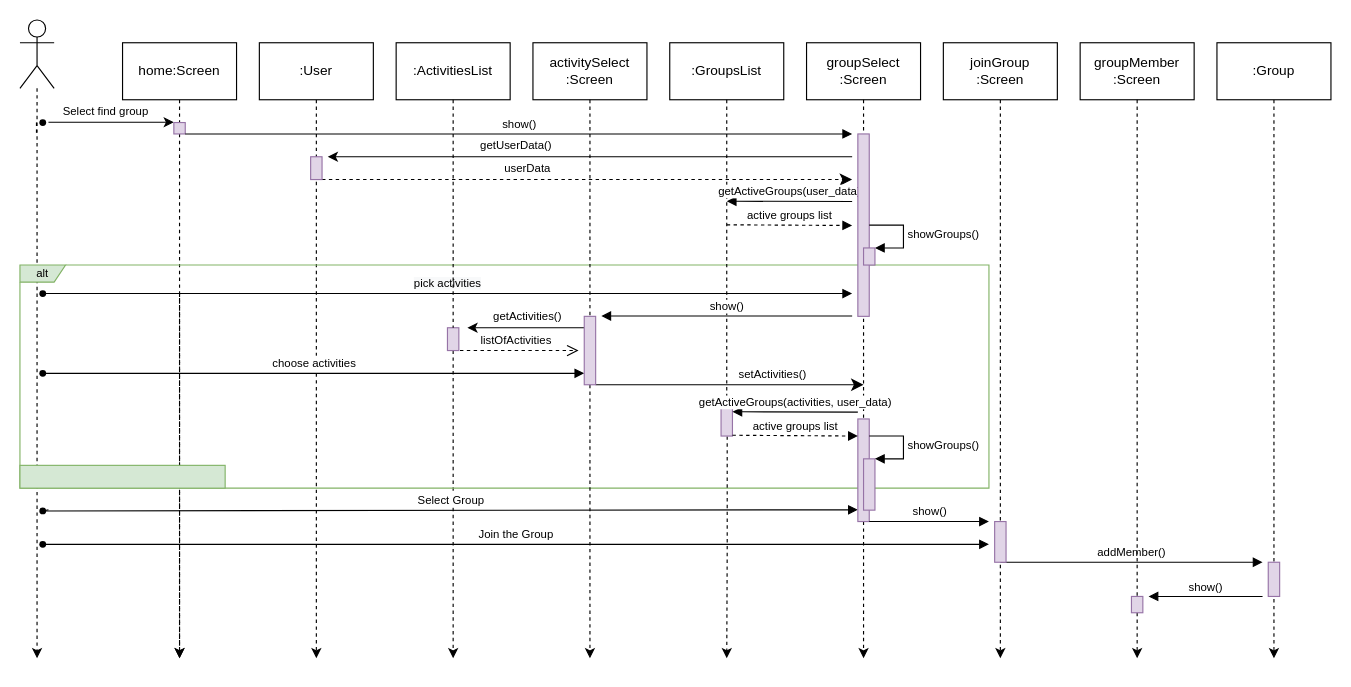
This 1351x687 diagram has some shape labels left out. The shapes that lost their labels are listed below. From the top down, each one's centre as x and y in pixels, then its label:
At (36,53): "User".
At (122,476): "user chooses certain activities".
